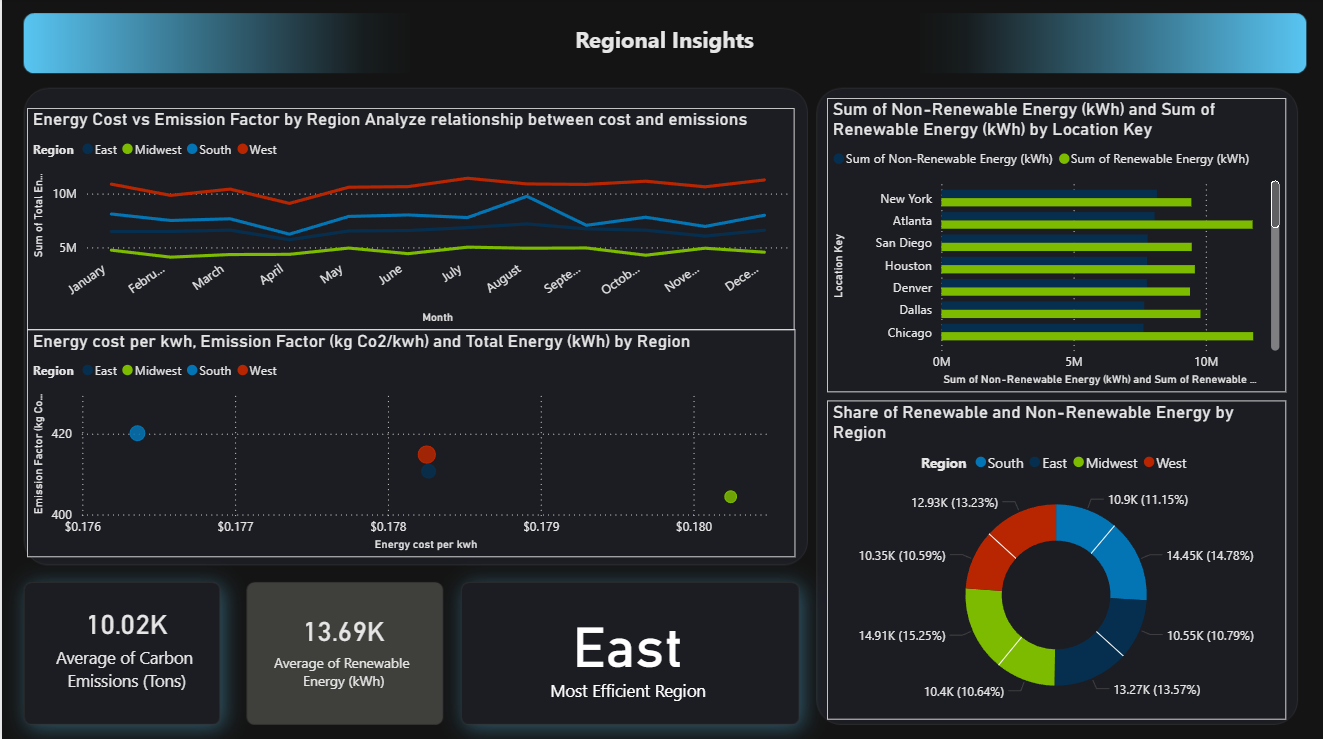

What the dashboard file says about the page in this screenshot:
{"tool":"powerbi","page":{"name":"Regional Insights","canvas":[1280,720],"ordinal":1},"visuals":[{"type":"card","fields":{"Values":["Avg(Data.Renewable Energy (kWh))"]},"box":[232.9,540,194.3,157.1],"z":0},{"type":"card","fields":{"Values":["Avg(Data.Carbon Emissions (Tons))"]},"box":[24.3,531.4,192.9,165.7],"z":1000},{"type":"card","fields":{"Values":["DAX House.Most Efficient Region"]},"box":[512.7,564.6,183.4,131.5],"z":2000},{"type":"clusteredBarChart","fields":{"Y":["Sum(Data.Non-Renewable Energy (kWh))","Sum(Data.Renewable Energy (kWh))"],"Category":["Dim_Location.Region Hierarchy.Region","Dim_Location.Region Hierarchy.State","Dim_Location.Region Hierarchy.Location Key"]},"box":[796,96,443,284],"z":3000},{"type":"scatterChart","fields":{"X":["DAX House.Energy cost per kwh"],"Y":["DAX House.Emission Factor (kg Co2/kwh)"],"Series":["Dim_Location.Region"],"Size":["DAX House.Total Energy (kWh)"]},"box":[24.3,320,741.4,220],"z":4000},{"type":"donutChart","title":"Share of Renewable and Non-Renewable Energy by Region","fields":{"Y":["Avg(Data.Non-Renewable Energy (kWh))","Avg(Data.Renewable Energy (kWh))"],"Category":["Dim_Location.Region"]},"box":[796,389,443,308],"z":5000},{"type":"textbox","box":[513.3,20,253.3,61.7],"z":6000},{"type":"lineChart","title":"Energy Cost vs Emission Factor by Region\tAnalyze relationship between cost and emissions","fields":{"Series":["Dim_Location.Region"],"Y":["Sum(Data.Total Energy (kWh))"],"Category":["Dim_Date.Date.Variation.Date Hierarchy.Year","Dim_Date.Date.Variation.Date Hierarchy.Quarter","Dim_Date.Date.Variation.Date Hierarchy.Month","Dim_Date.Date.Variation.Date Hierarchy.Day"]},"box":[24.7,106.3,741.1,214.2],"z":7000}]}

Visuals, with their boxes in screenshot pixels (x1, y1, x2, y2), scaled from the page's 1280x720 canvas onto the 1323x739 screenshot:
card - Avg(Data.Renewable Energy (kWh)): region(241, 554, 442, 715)
card - Avg(Data.Carbon Emissions (Tons)): region(25, 545, 224, 715)
card - DAX House.Most Efficient Region: region(530, 579, 719, 714)
clusteredBarChart - Sum(Data.Non-Renewable Energy (kWh)) x Sum(Data.Renewable Energy (kWh)): region(823, 99, 1281, 390)
scatterChart - DAX House.Energy cost per kwh x DAX House.Emission Factor (kg Co2/kwh): region(25, 328, 791, 554)
"Share of Renewable and Non-Renewable Energy by Region" donutChart: region(823, 399, 1281, 715)
textbox: region(531, 21, 792, 84)
"Energy Cost vs Emission Factor by Region	Analyze relationship between cost and emissions" lineChart: region(26, 109, 792, 329)
